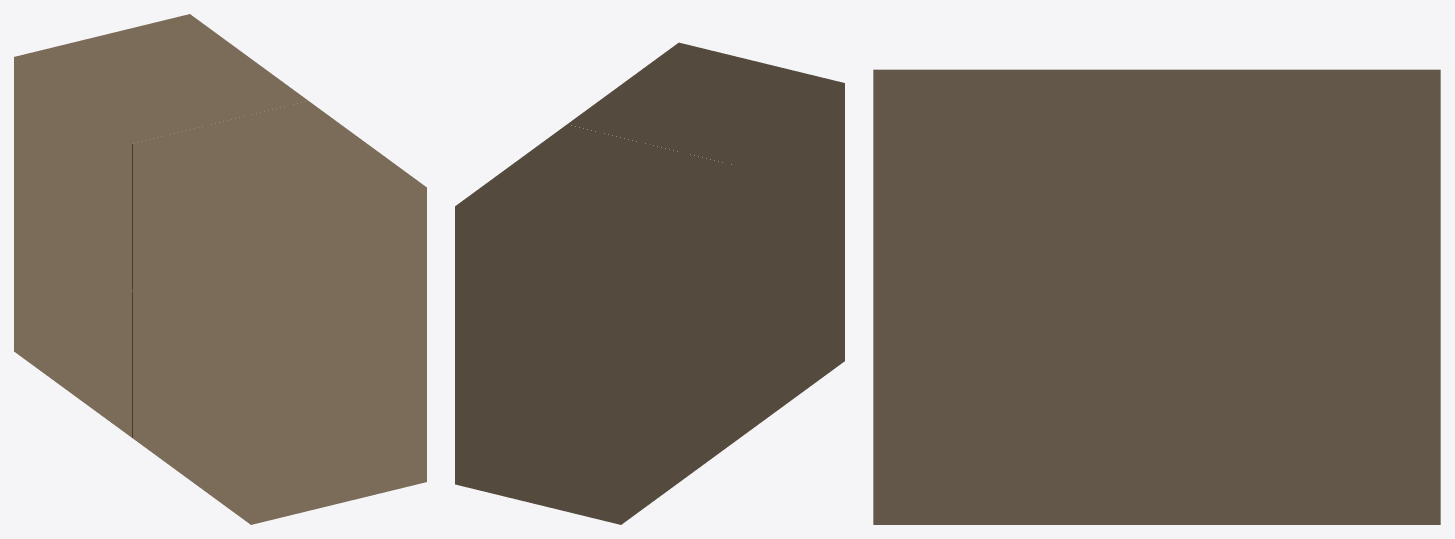
File: trap_t15_dog_patrol_hazard.glb
3 renders of one model, left to right at view 1: azimuth 30°, elevation 25°; view 2: azimuth 150°, elevation 25°; view 3: azimuth 270°, elevation 25°, orthographic. The views are drawn at different scales.
Parts seen in each view (by area): view 1: trap_t15_dog_patrol_hazard; view 2: trap_t15_dog_patrol_hazard; view 3: trap_t15_dog_patrol_hazard.
Boxes of the visible parts, x1=… form: trap_t15_dog_patrol_hazard: x1=14, y1=14, x2=426, y2=524; trap_t15_dog_patrol_hazard: x1=455, y1=42, x2=844, y2=524; trap_t15_dog_patrol_hazard: x1=873, y1=69, x2=1440, y2=524.
Size of the model in its own units: 0.45 by 0.86 by 1.05.
